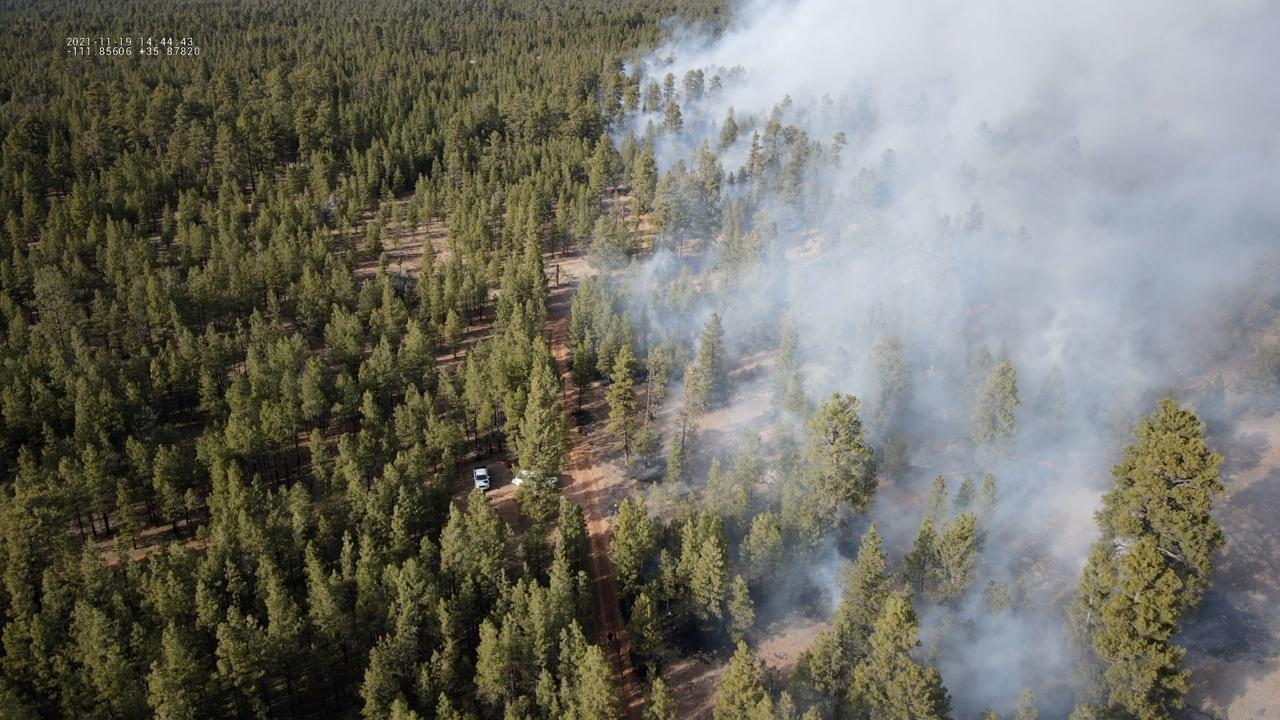smoke: (599, 0, 1280, 720)
